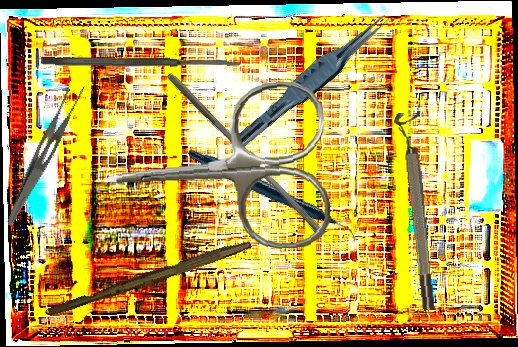Dressing Forceps: (5, 77, 88, 234)
Fixation Ring: (393, 111, 439, 312)
Handpiece: (186, 100, 358, 293)
Iris Scissors: (97, 79, 333, 261)
Pusher: (160, 71, 331, 238)
Scalpel Handle: (46, 234, 253, 321)
Spatula Surgical: (40, 55, 242, 70)
Tissue Forceps: (229, 4, 394, 161)
